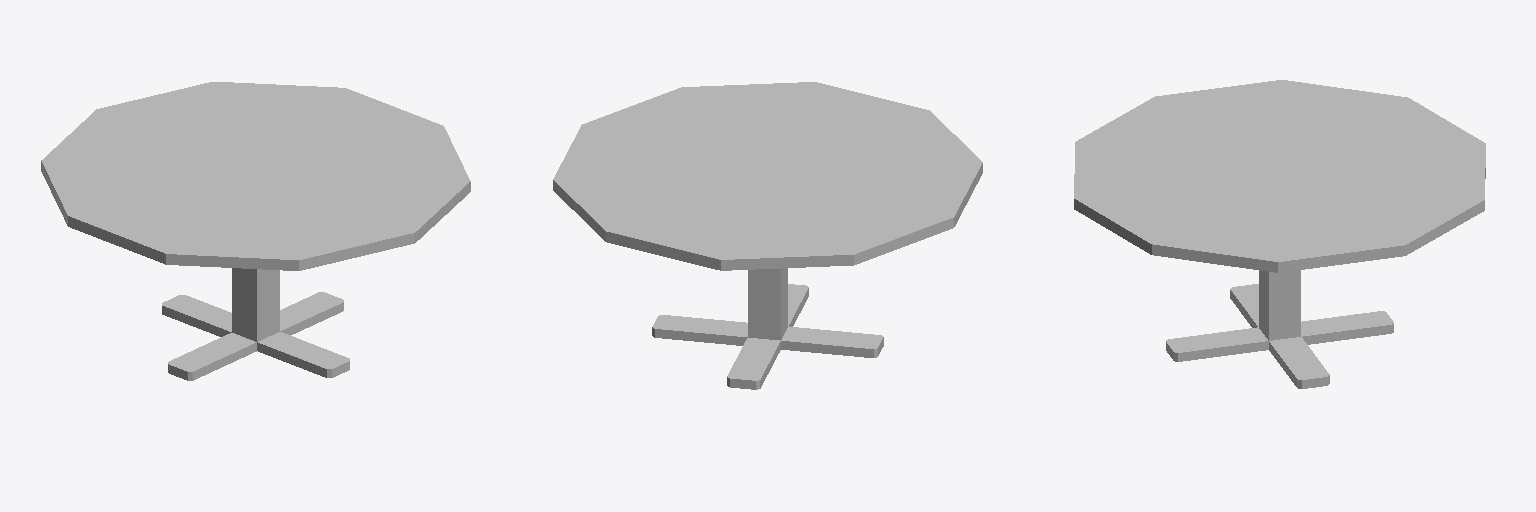
Rendered from table.obj.
3 renders of one model, left to right at view 1: azimuth 30°, elevation 25°; view 2: azimuth 150°, elevation 25°; view 3: azimuth 270°, elevation 25°, orthographic.
Visible parts, largest first — view 1: round_table1_Untitled.010; view 2: round_table1_Untitled.010; view 3: round_table1_Untitled.010.
Boxes of the visible parts, <box> form: round_table1_Untitled.010: <box>41,82,470,380</box>; round_table1_Untitled.010: <box>553,82,982,389</box>; round_table1_Untitled.010: <box>1074,80,1485,388</box>.
Size of the model in its own units: 0.6096 by 0.2649 by 0.5814.